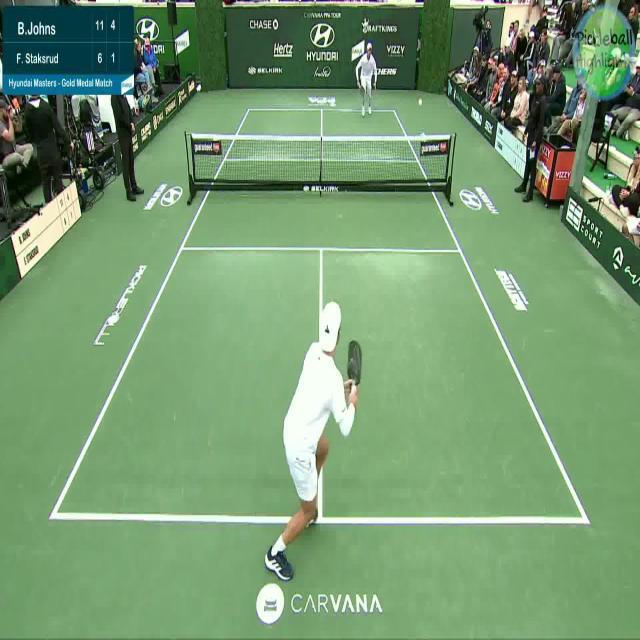ball: (414, 92, 428, 114)
